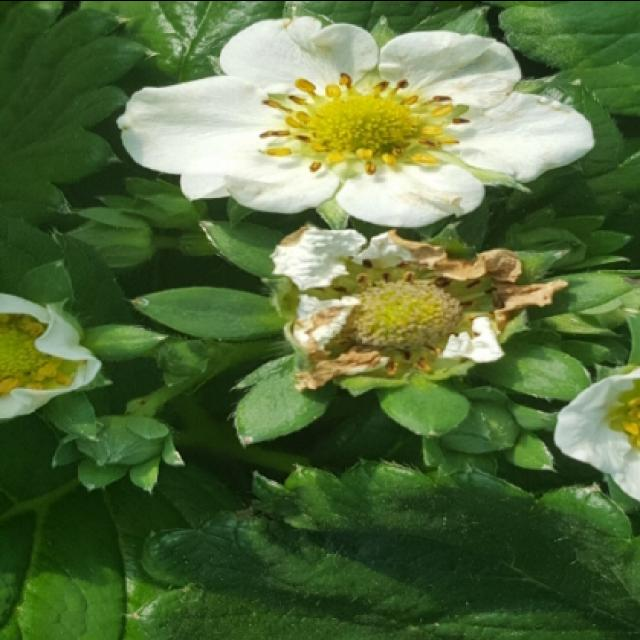Blossom Blight: (301, 248, 506, 378), (255, 65, 473, 178)
